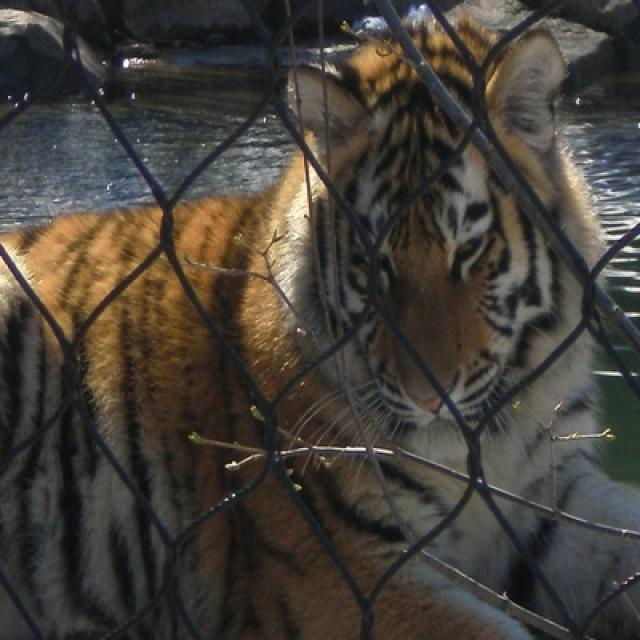Tiger: (0, 9, 638, 638)
